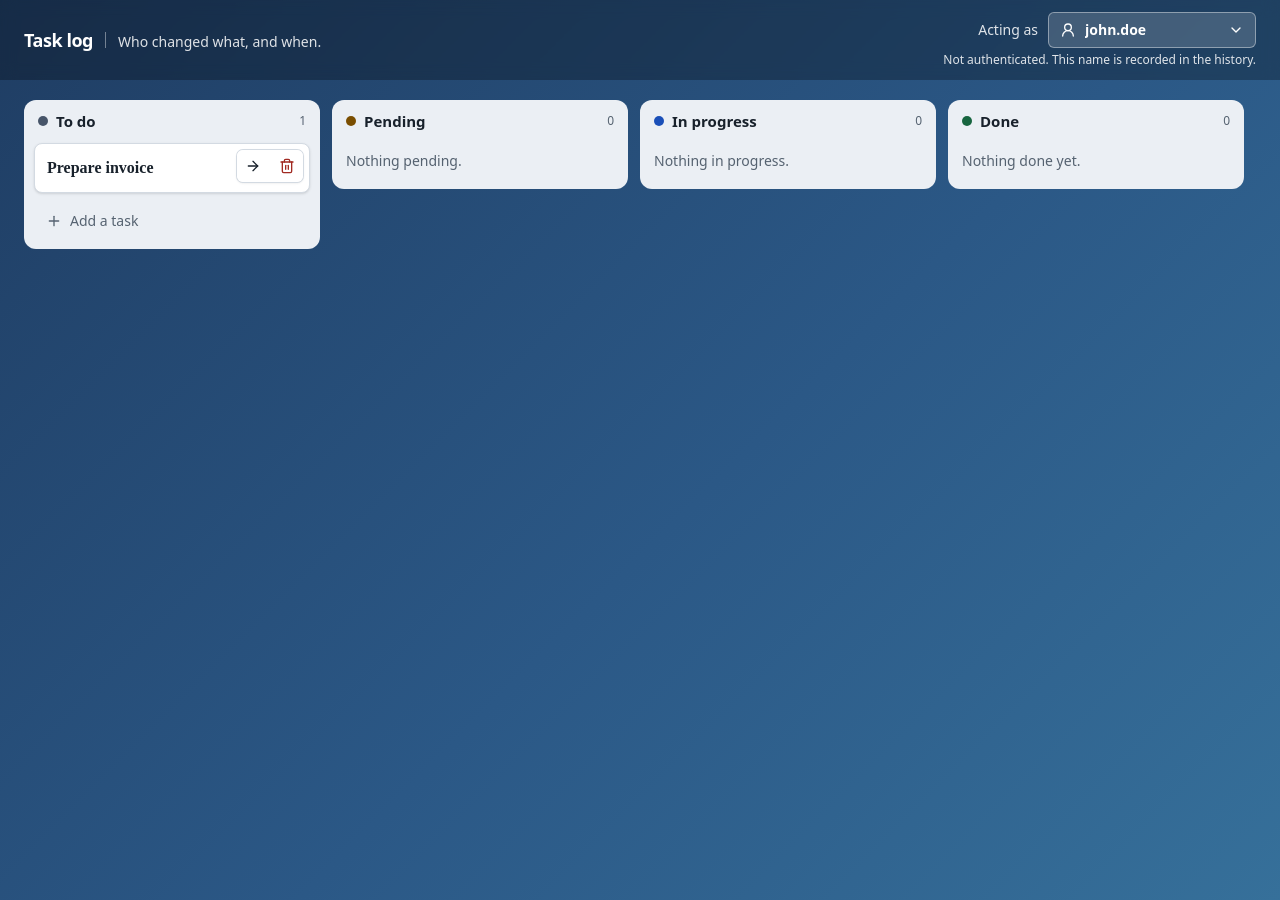
moving a task (button alternative to dragging) › should offer only the next step and move the card to the next column
Check: the heading "Prepare invoice" is shown, box [47, 156, 297, 180]
Click the button named "Move to Pending: Prepare invoice": (253, 166) [237, 150, 269, 182]
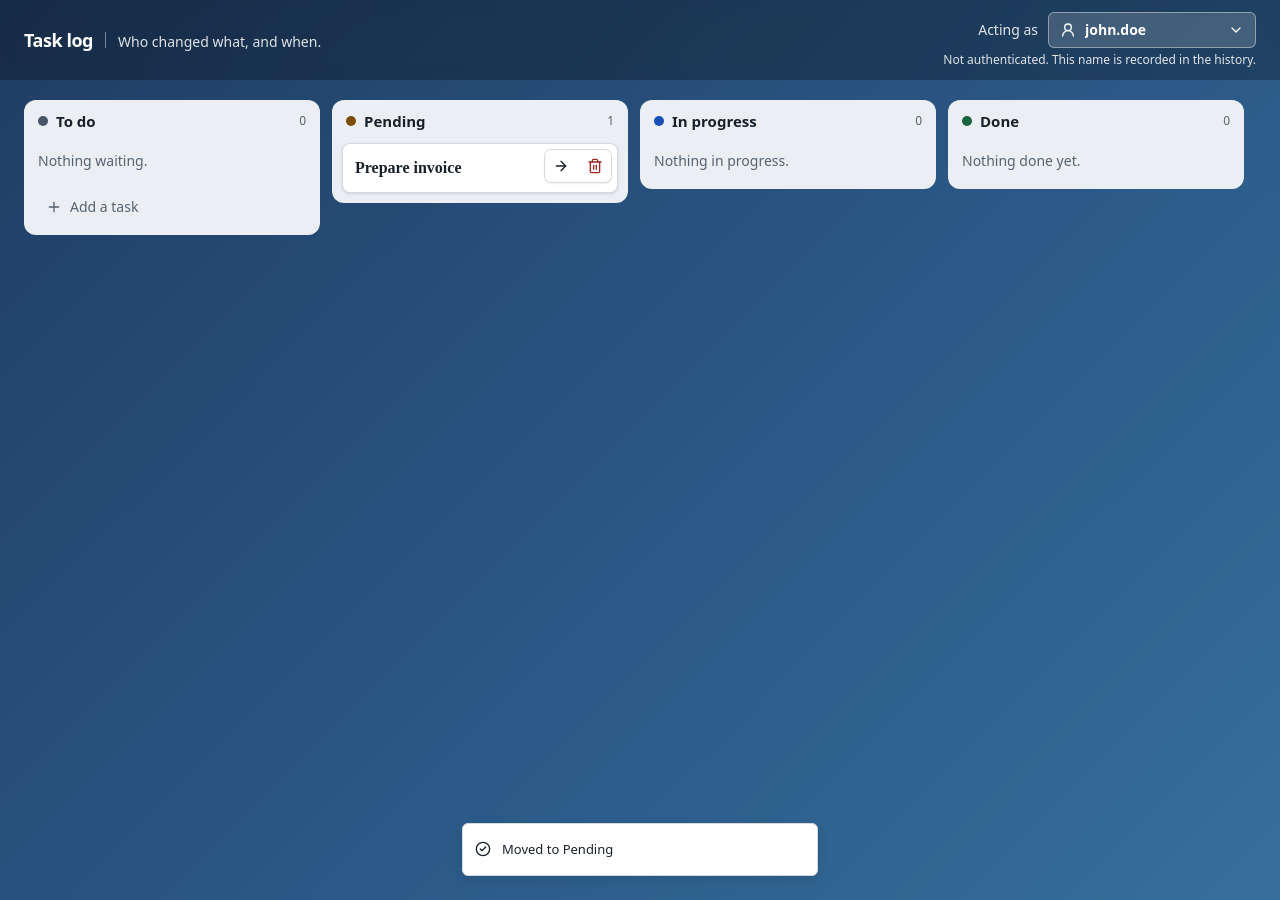
Check: the heading "Prepare invoice" is shown, box [355, 156, 605, 180]
Check: the text "Moved to Pending" is shown, box [502, 840, 613, 859]
